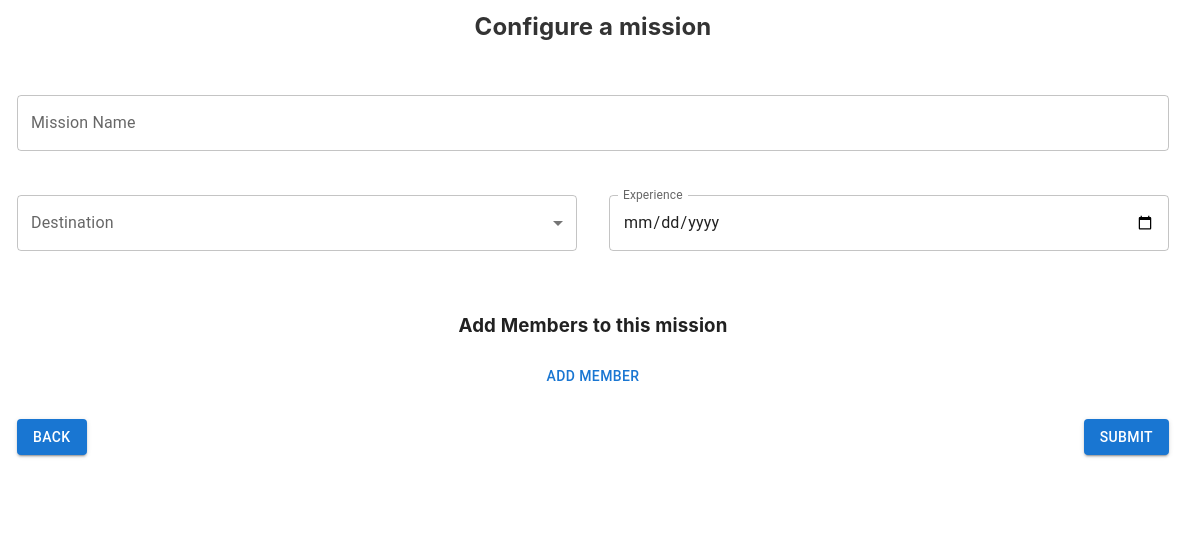
MissionForm › displays error message when submitting without valid data
This screenshot has width=1187, height=535.
Click the button "Submit" at (1126, 437), box [1084, 419, 1169, 455]
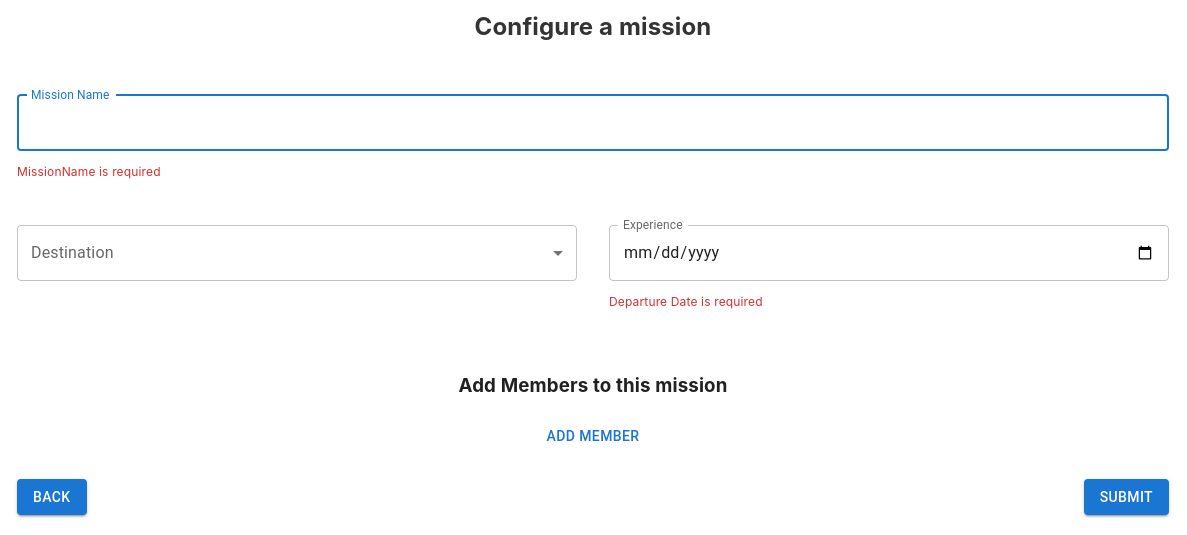
Now the text "MissionName is required" is shown, box [17, 164, 161, 179]
